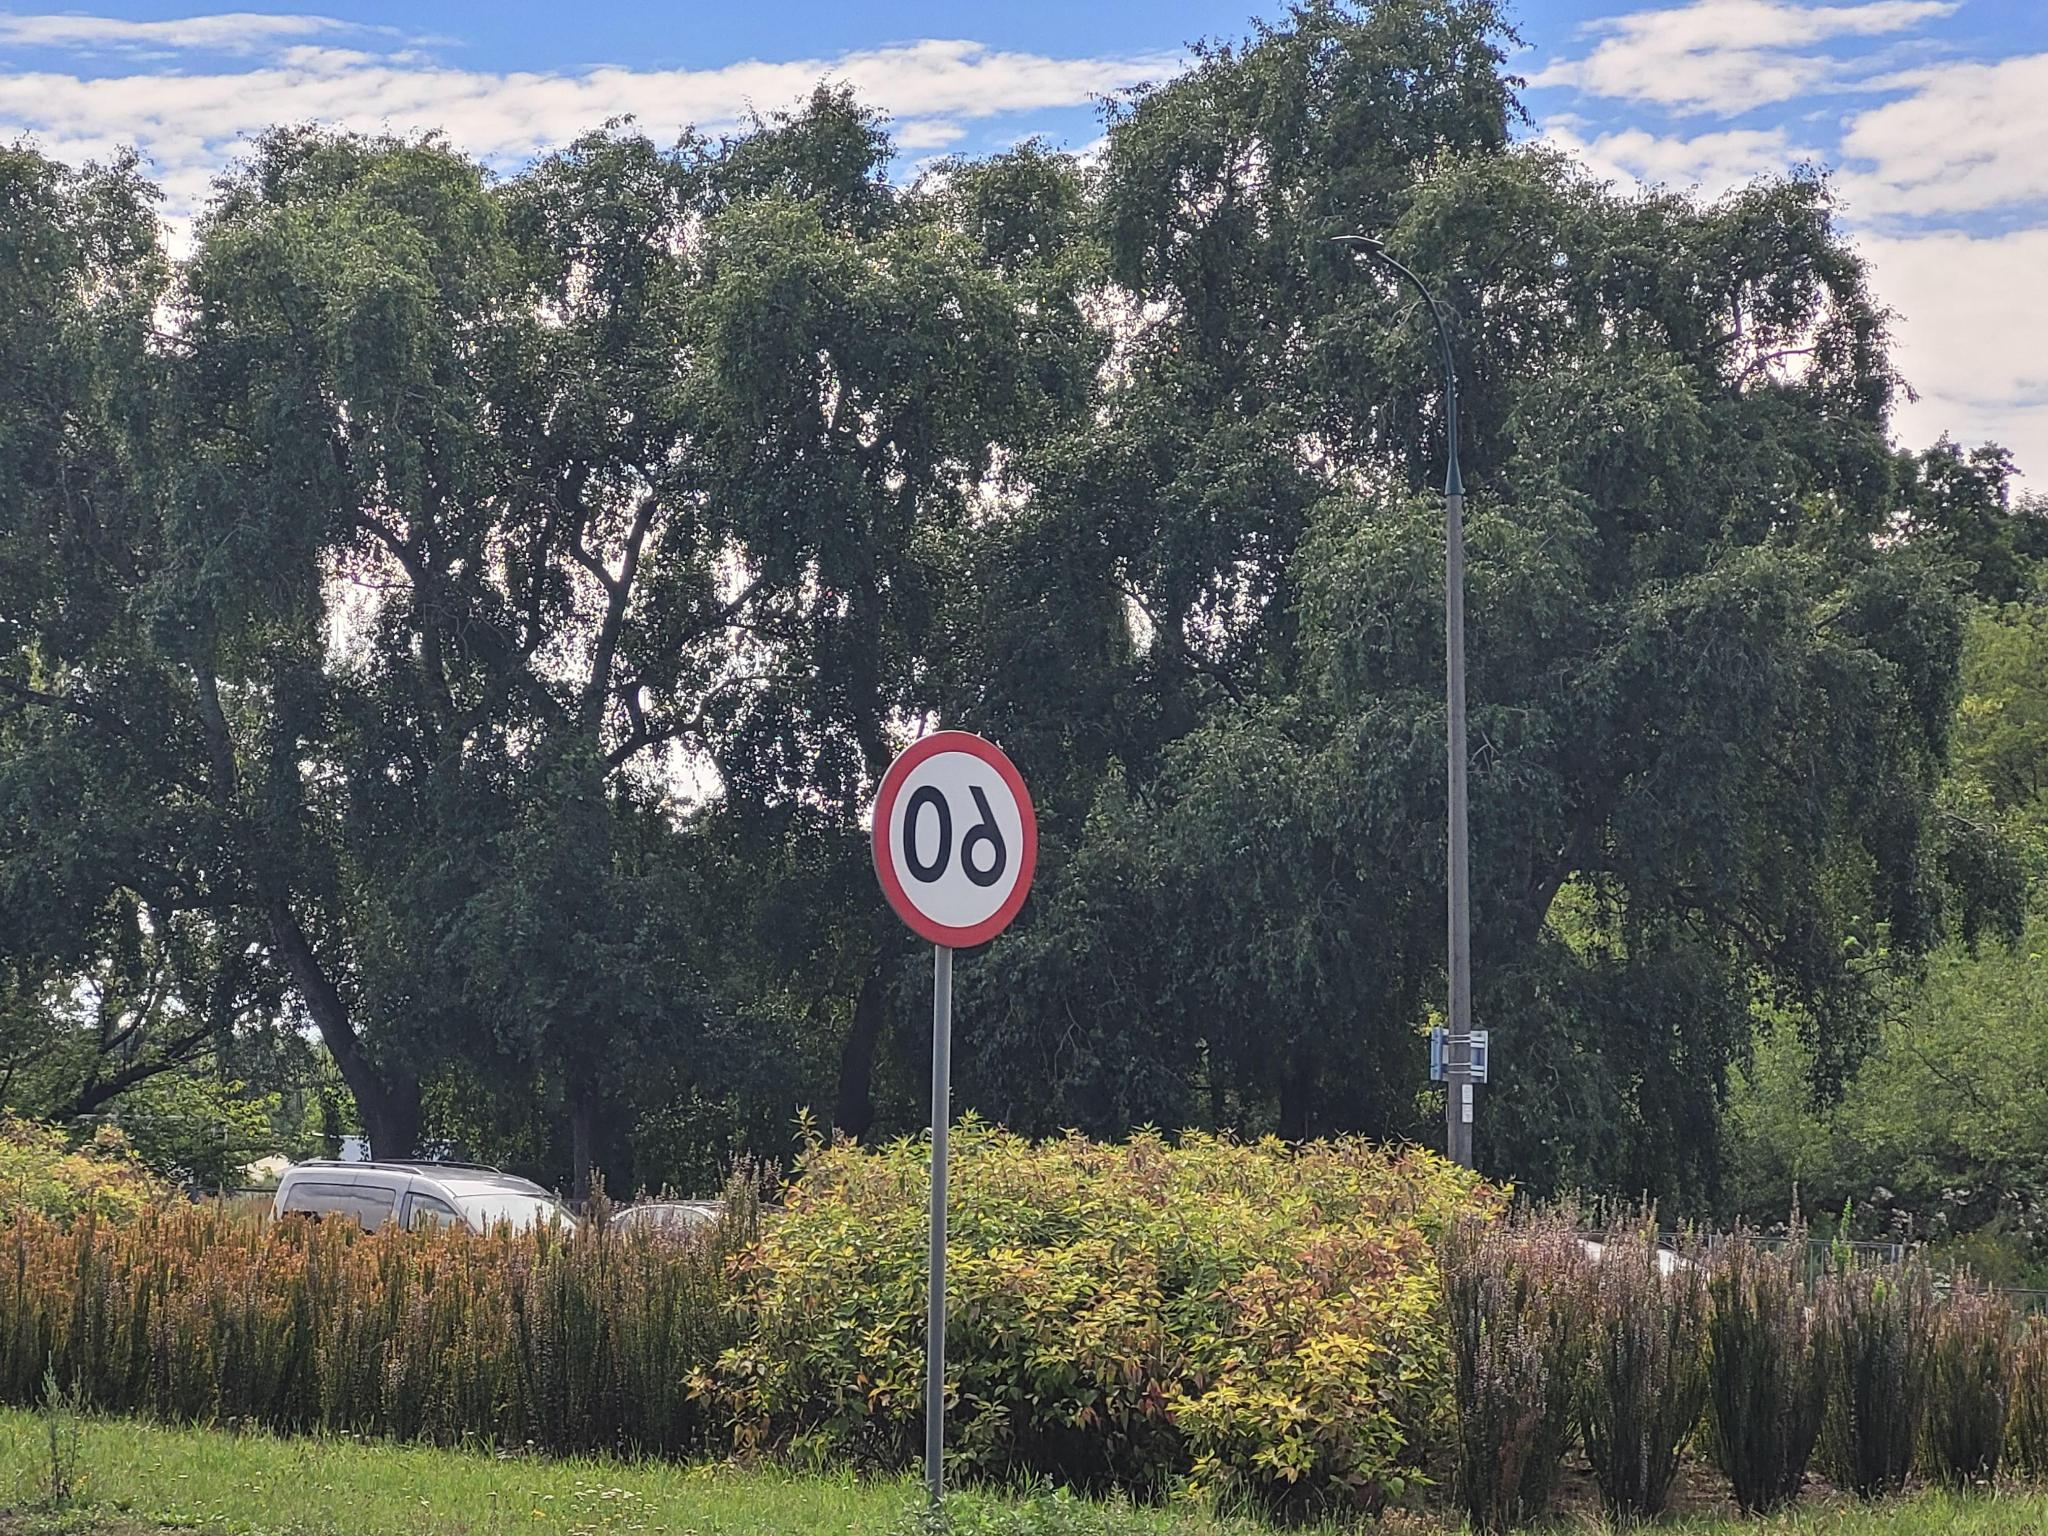prohibitory: (871, 729, 1039, 950)
